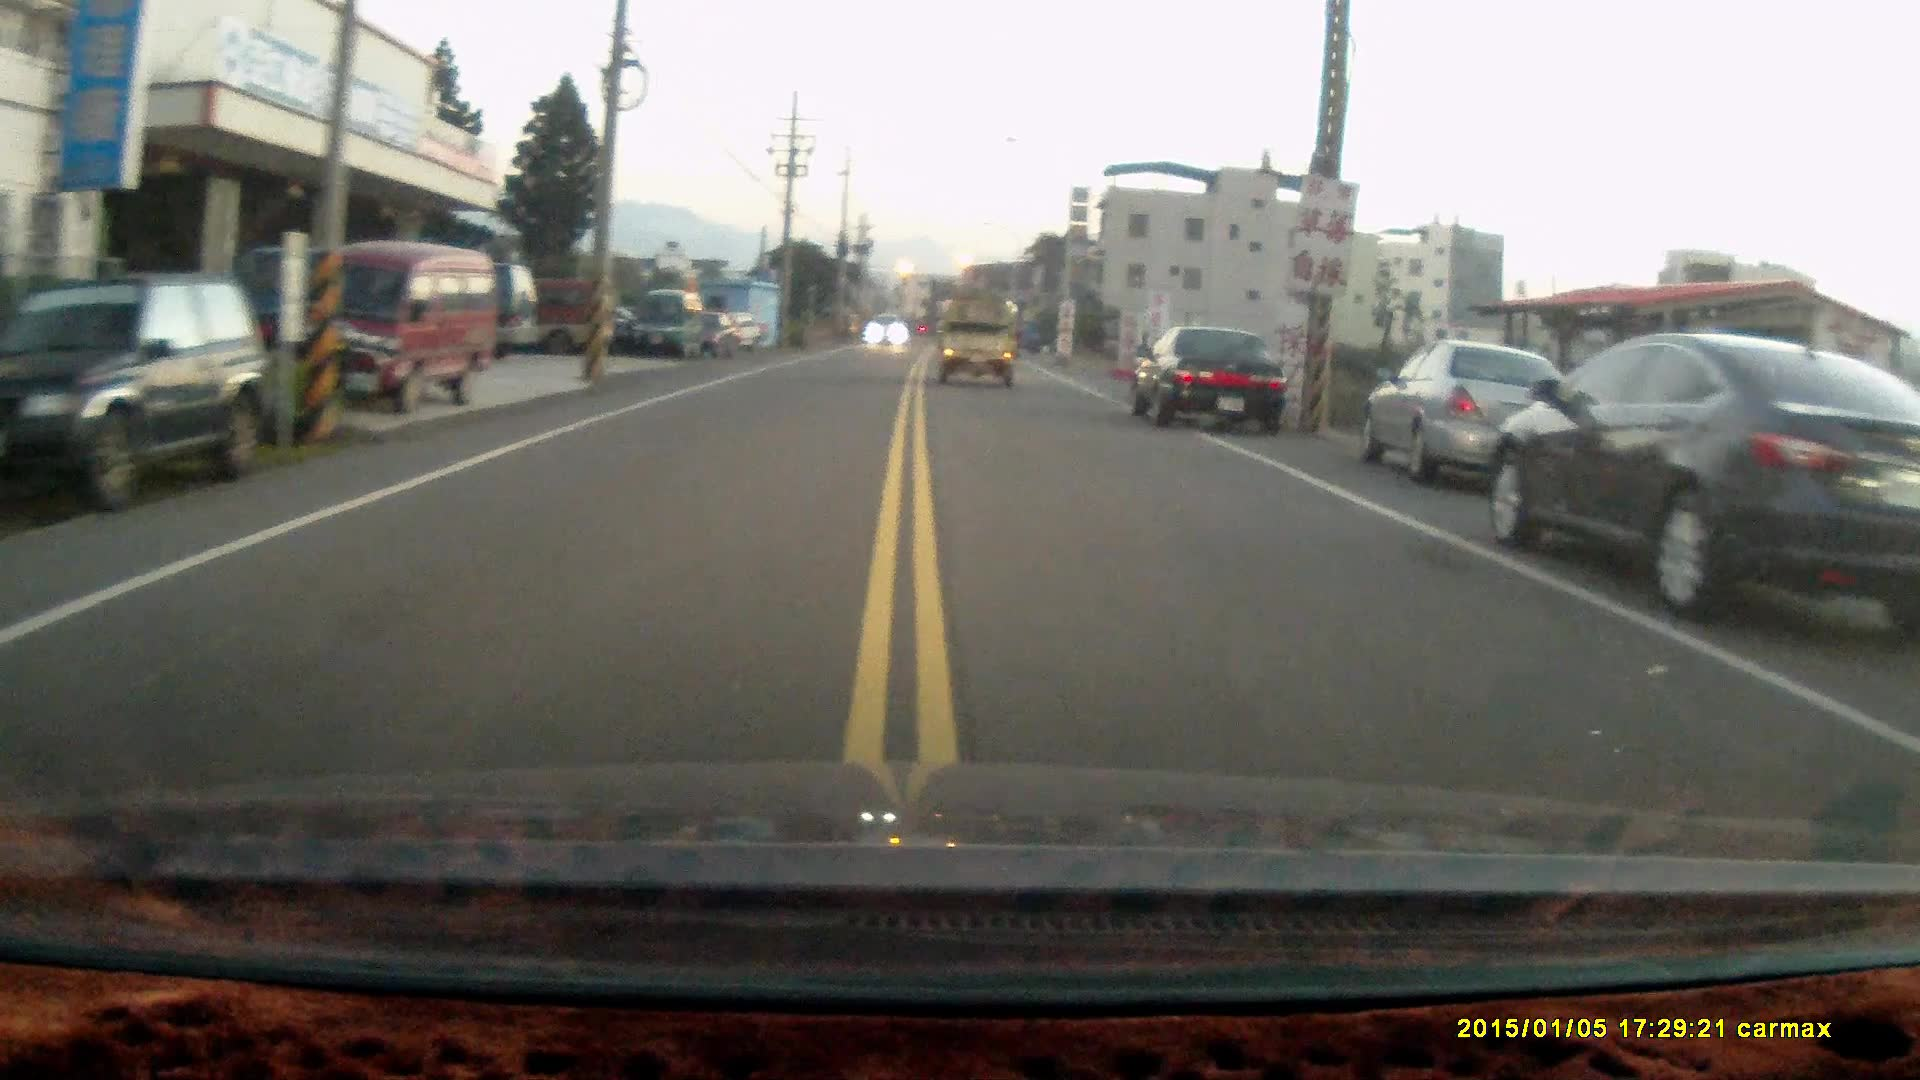vehicle: (1487, 331, 1920, 625), (1, 276, 302, 506), (266, 237, 500, 404), (1361, 334, 1586, 483), (339, 249, 547, 361), (1126, 318, 1290, 435), (454, 268, 611, 349), (942, 294, 1025, 382), (632, 285, 705, 353)
